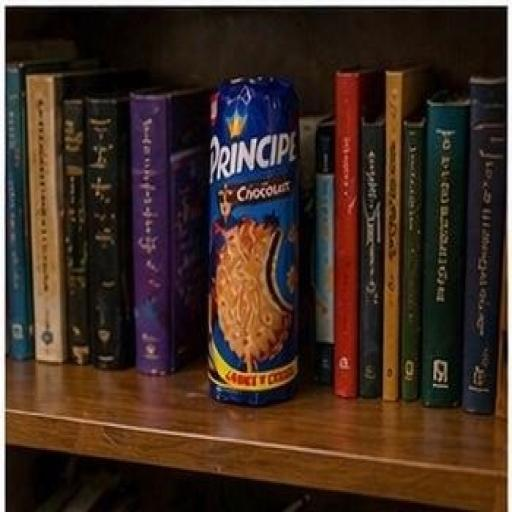prince: (128, 37, 384, 454)
